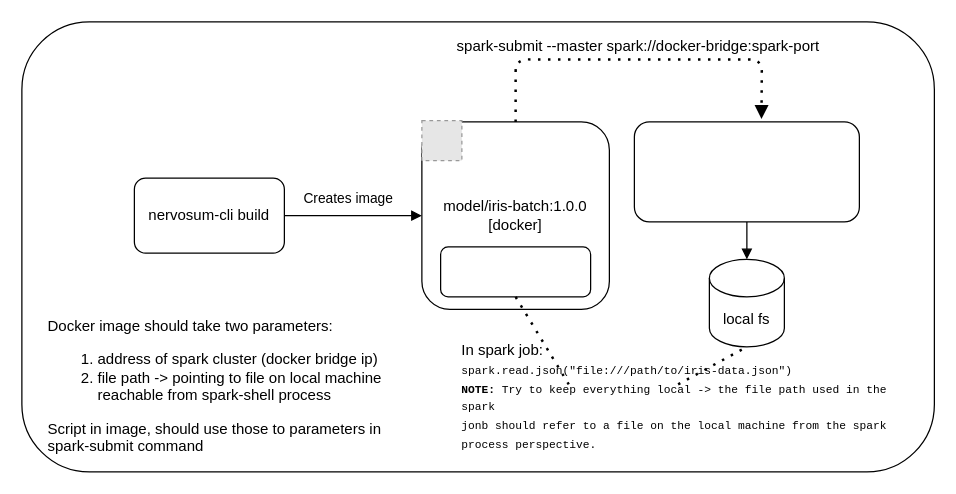
This 956x494 diagram has some shape labels left out. Grey dashed boxes stand in for pictures. The shapes that lost their labels are listed below. From the top down, each one's centre as x and y in pixels, then its label:
point 746,171: spark-shell --master local[1]
point 515,271: iris-batch-1.0.0.egg
